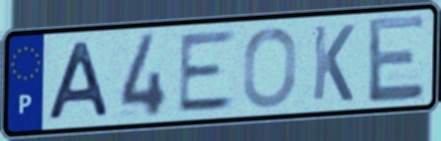4: (117, 30, 170, 120)
A: (45, 38, 114, 123)
E: (365, 11, 427, 108), (175, 27, 239, 116)
K: (309, 22, 357, 104)
O: (240, 25, 300, 111)
